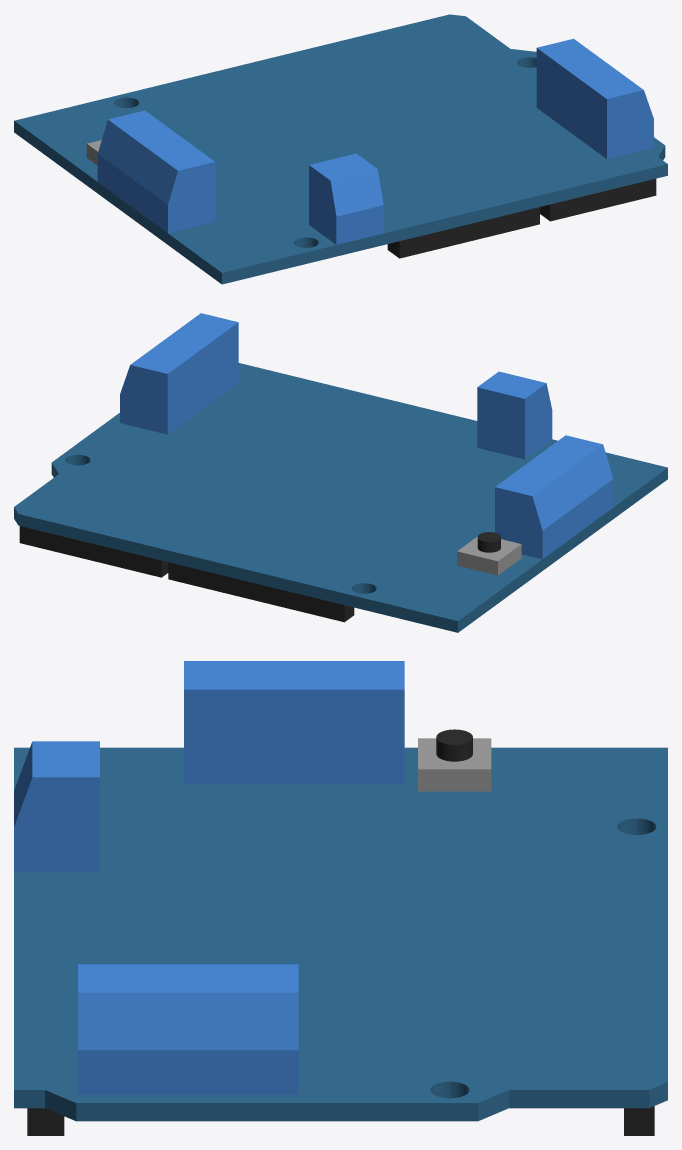
File: ada-1438.glb
The picture shows the model from 3 angles, top to bottom: view 1: azimuth 30°, elevation 25°; view 2: azimuth 150°, elevation 25°; view 3: azimuth 270°, elevation 25°; orthographic projection. The views are drawn at different scales.
Visible parts, largest first — view 1: 0_0.16666666666666666_0.3333333333333333_0, 0.08333333333333333_0.25_0.75_0, 0_0_0_0; view 2: 0_0.16666666666666666_0.3333333333333333_0, 0.08333333333333333_0.25_0.75_0, 0_0_0_0, 0.3333333333333333_0.3333333333333333_0.3333333333333333_0; view 3: 0_0.16666666666666666_0.3333333333333333_0, 0.08333333333333333_0.25_0.75_0, 0.3333333333333333_0.3333333333333333_0.3333333333333333_0, 0_0_0_0.
Part boxes in pixels (left/top/right/bottom): 0_0.16666666666666666_0.3333333333333333_0: left=14, top=14, right=667, bottom=284; 0.08333333333333333_0.25_0.75_0: left=97, top=38, right=653, bottom=244; 0_0_0_0: left=387, top=178, right=656, bottom=258; 0_0.16666666666666666_0.3333333333333333_0: left=14, top=363, right=667, bottom=632; 0.08333333333333333_0.25_0.75_0: left=120, top=313, right=613, bottom=559; 0_0_0_0: left=19, top=526, right=500, bottom=622; 0.3333333333333333_0.3333333333333333_0.3333333333333333_0: left=457, top=536, right=521, bottom=575; 0_0.16666666666666666_0.3333333333333333_0: left=14, top=747, right=667, bottom=1121; 0.08333333333333333_0.25_0.75_0: left=14, top=661, right=404, bottom=1094; 0.3333333333333333_0.3333333333333333_0.3333333333333333_0: left=418, top=738, right=491, bottom=791; 0_0_0_0: left=27, top=729, right=654, bottom=1135.
Size of the model in its own units: 6.86 by 1.31 by 5.33.
